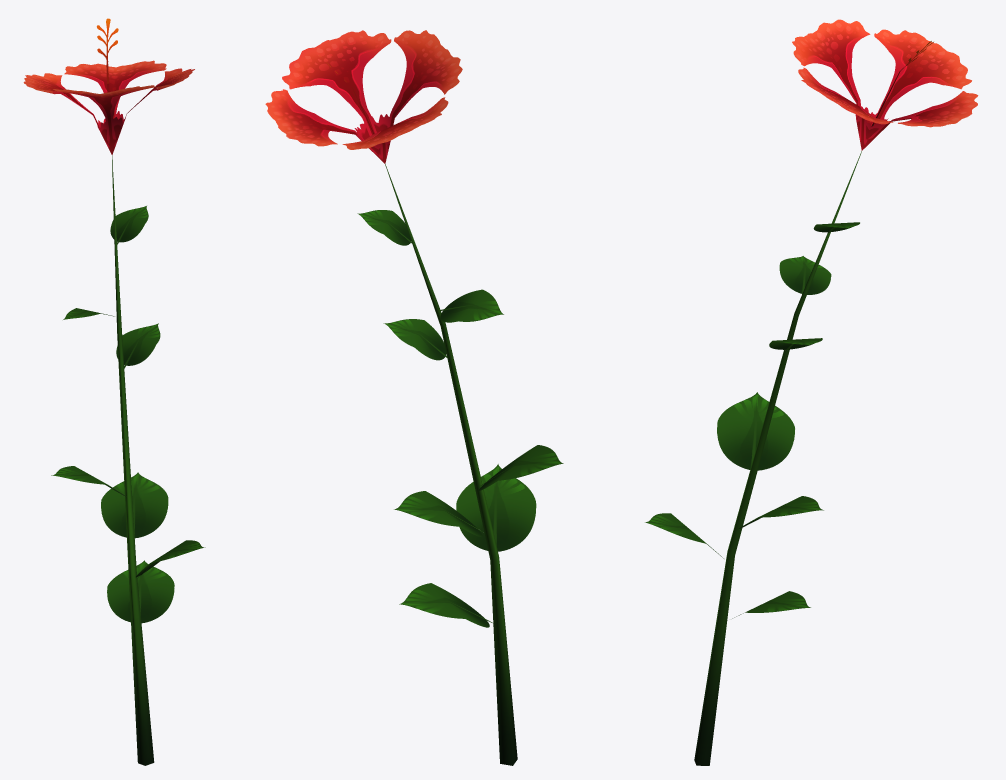
The model's file is Flower_13a.FBX.
The picture shows the model from 3 angles, left to right: view 1: azimuth 30°, elevation 25°; view 2: azimuth 150°, elevation 25°; view 3: azimuth 270°, elevation 25°; orthographic projection. The views are drawn at different scales.
Visible parts, largest first — view 1: Flower_13a; view 2: Flower_13a; view 3: Flower_13a.
Boxes of the visible parts, x1,y1,x2,y2 form: Flower_13a: (23,18,205,765); Flower_13a: (265,30,563,765); Flower_13a: (645,19,978,765).
Size of the model in its own units: 9.39 by 28.8 by 12.76.
